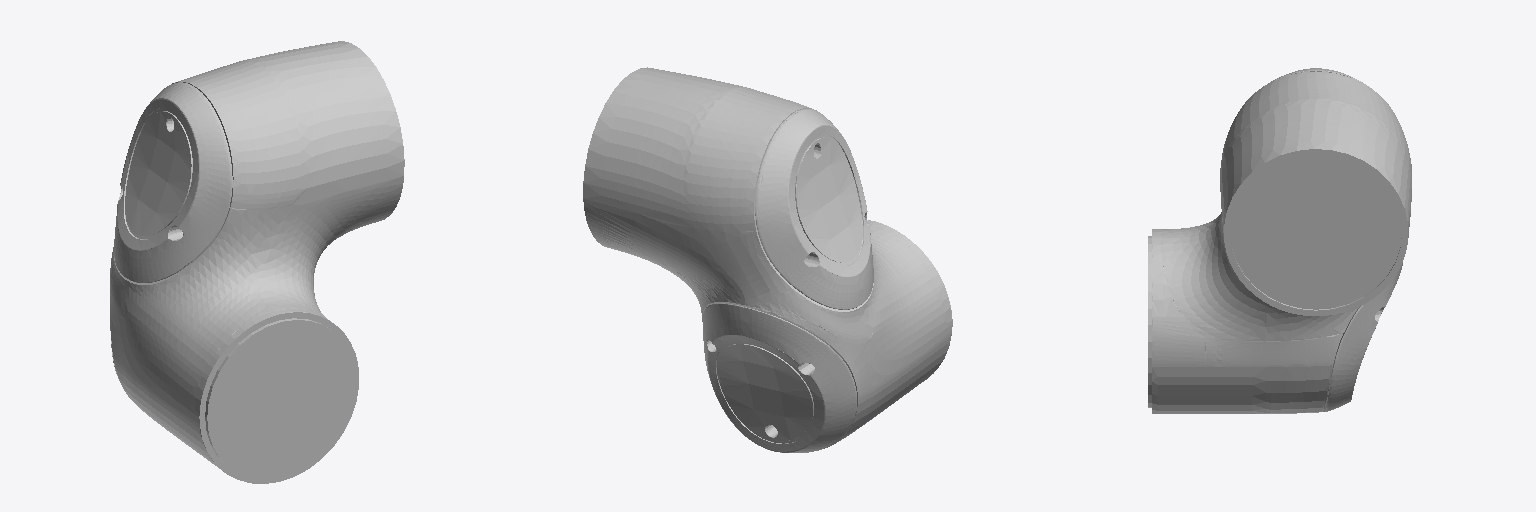
3 renders of one model, left to right at view 1: azimuth 30°, elevation 25°; view 2: azimuth 150°, elevation 25°; view 3: azimuth 270°, elevation 25°, orthographic.
Visible parts, largest first — view 1: Body1, Body3; view 2: Body1, Body3, Body2; view 3: Body1, Body2.
Part boxes in pixels (bbox=[...]): Body1: bbox=[110, 41, 404, 483]; Body3: bbox=[114, 82, 232, 282]; Body1: bbox=[583, 67, 952, 448]; Body3: bbox=[755, 109, 873, 309]; Body2: bbox=[703, 303, 856, 452]; Body1: bbox=[1148, 71, 1411, 413]; Body2: bbox=[1324, 263, 1402, 411].
Bounding box in the file's own units: 0.1295 × 0.1737 × 0.1232.